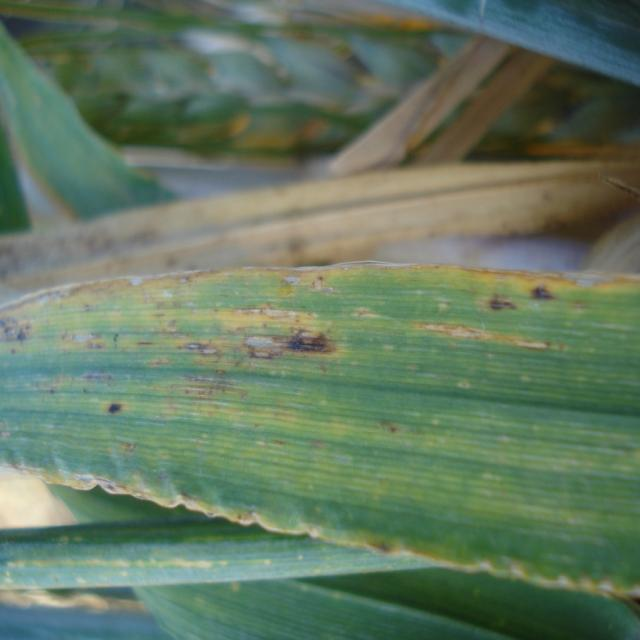wheat-septoria: (0, 263, 640, 583)
